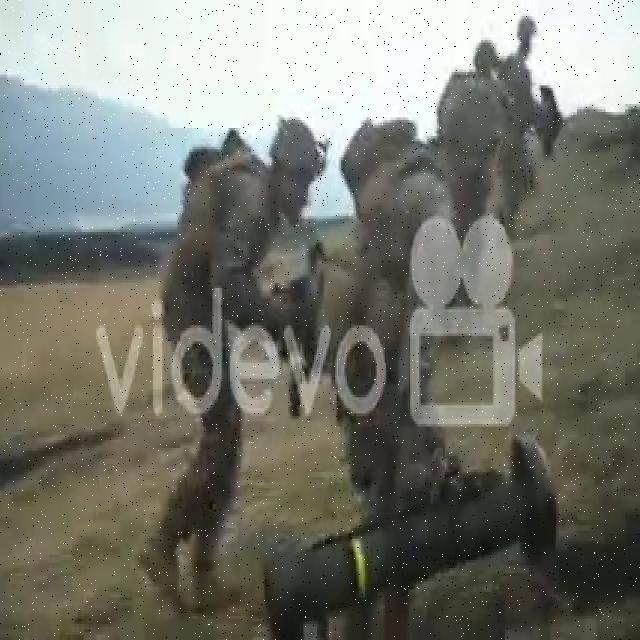bazooka: (268, 438, 566, 638)
